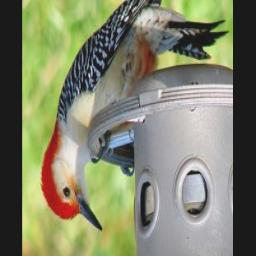Woodpecker: (41, 0, 229, 232)
